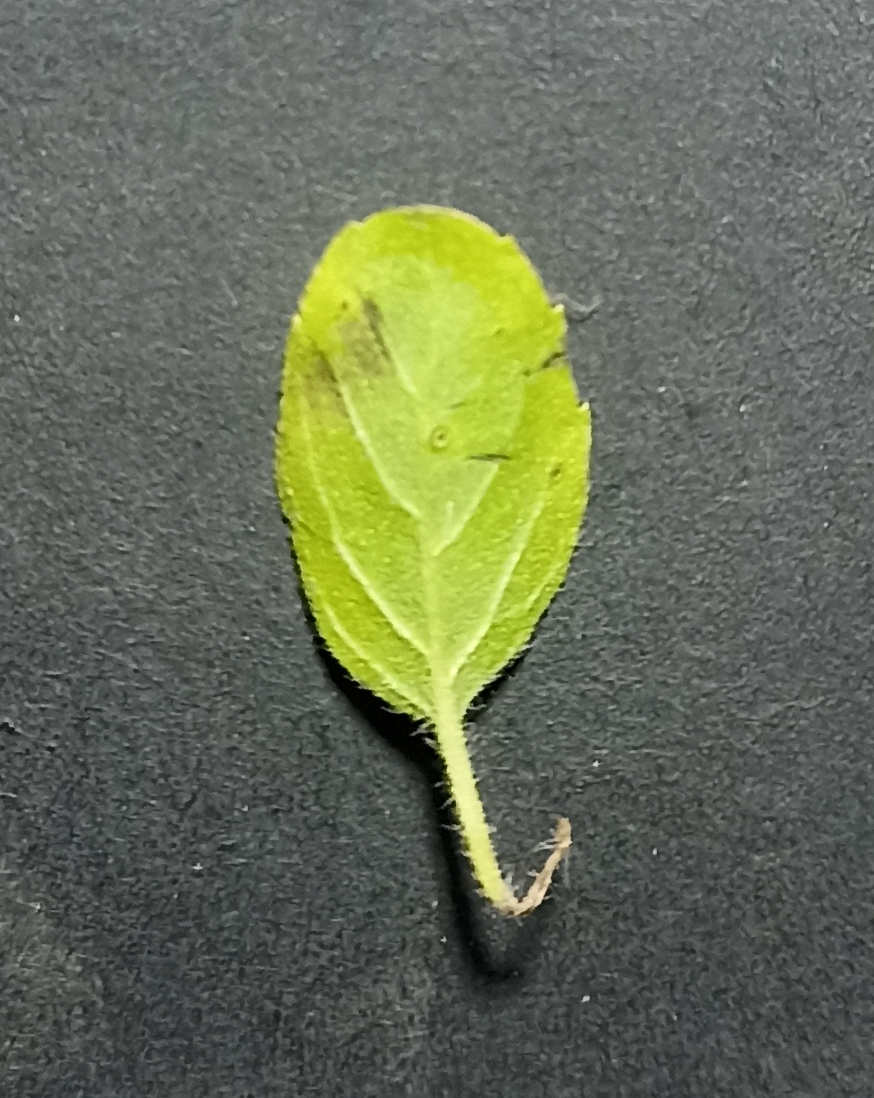Healthy: (270, 190, 602, 725)
